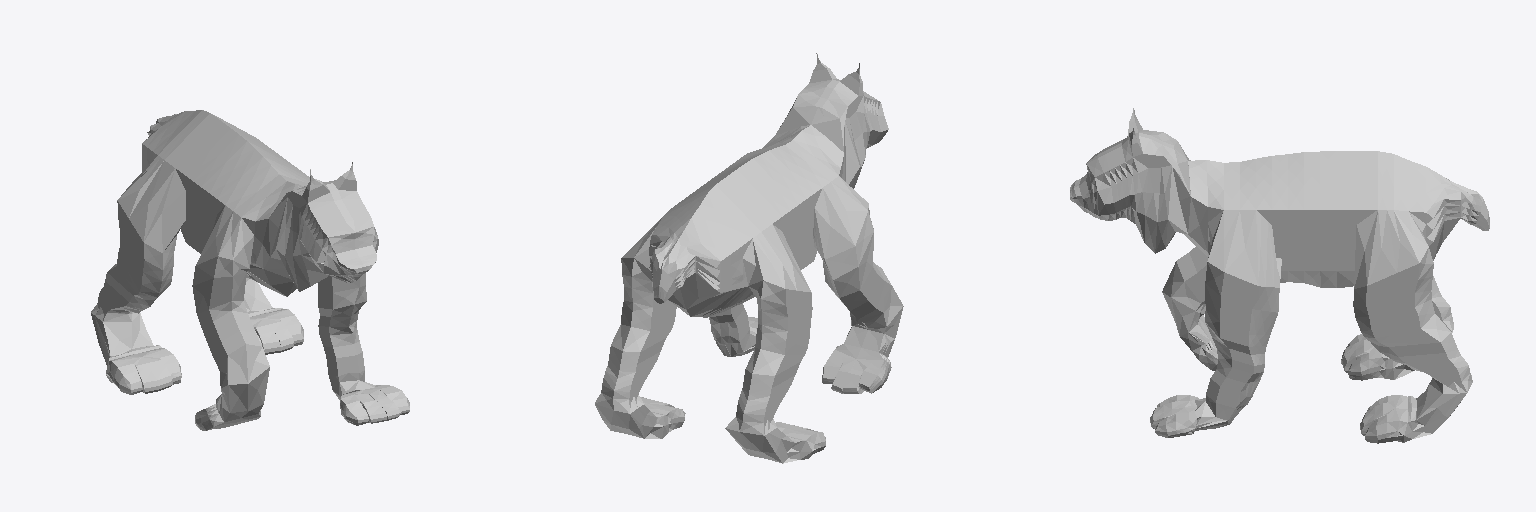
File: lynx.obj
3 views of the same model, side by side, from view 1: azimuth 30°, elevation 25°; view 2: azimuth 150°, elevation 25°; view 3: azimuth 270°, elevation 25° (orthographic).
Parts seen in each view (by area): view 1: polySurface12; view 2: polySurface12; view 3: polySurface12.
Boxes of the visible parts, x1=… form: polySurface12: x1=91, y1=110, x2=409, y2=430; polySurface12: x1=595, y1=53, x2=903, y2=463; polySurface12: x1=1070, y1=108, x2=1489, y2=443.
Size of the model in its own units: 0.6314 by 0.8918 by 1.18.